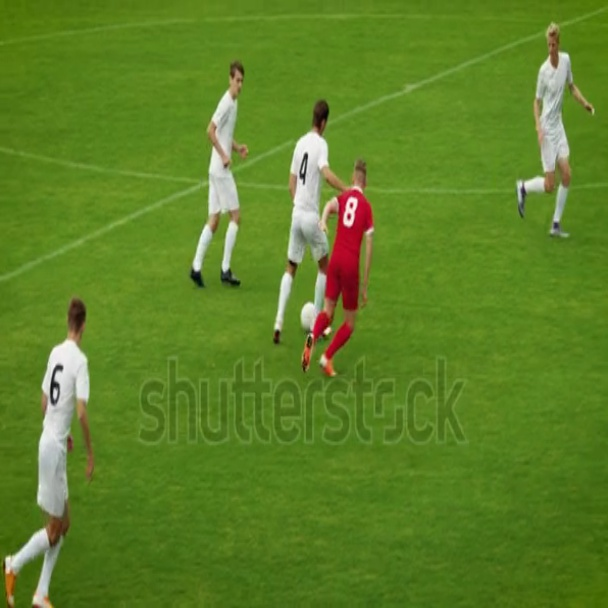ball: (303, 299, 319, 334)
